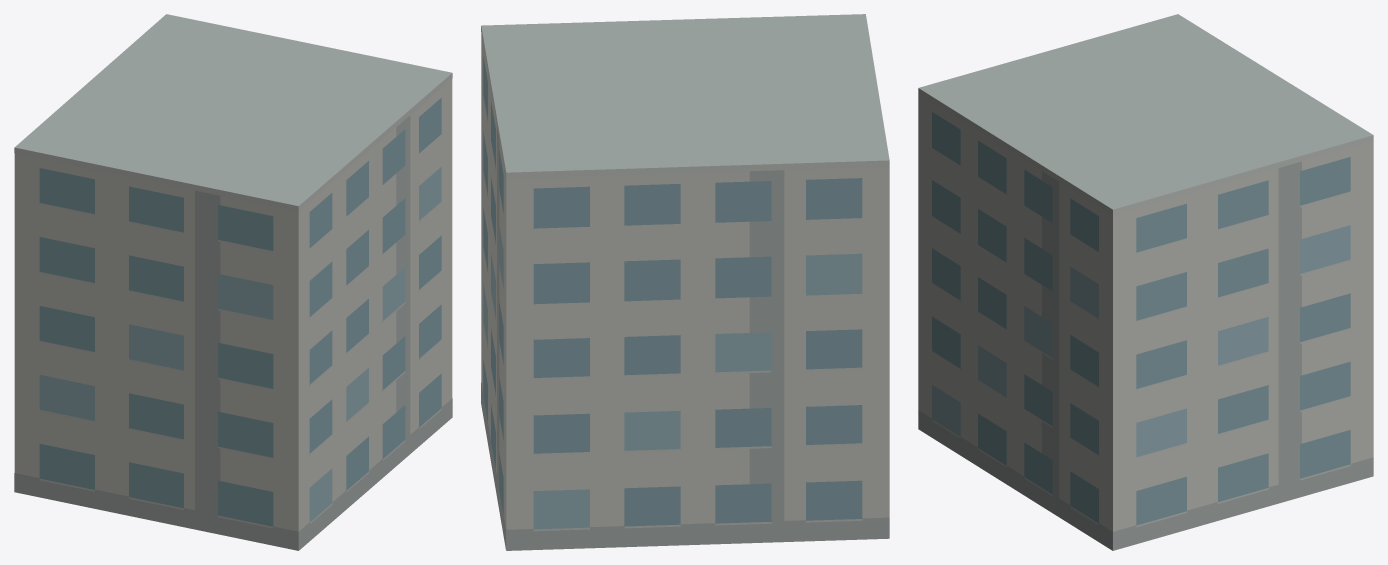
Rendered from survey-upis-32999731.glb.
3 views of the same model, side by side, from view 1: azimuth 30°, elevation 25°; view 2: azimuth 150°, elevation 25°; view 3: azimuth 270°, elevation 25° (orthographic). The views are drawn at different scales.
Visible parts, largest first — view 1: survey-upis-32999731.tmp; view 2: survey-upis-32999731.tmp; view 3: survey-upis-32999731.tmp.
Boxes of the visible parts, <box> form: survey-upis-32999731.tmp: <box>14,14,452,550</box>; survey-upis-32999731.tmp: <box>481,14,889,550</box>; survey-upis-32999731.tmp: <box>918,14,1373,550</box>.
Bounding box in the file's own units: 17.72 × 14.4 × 17.42.
